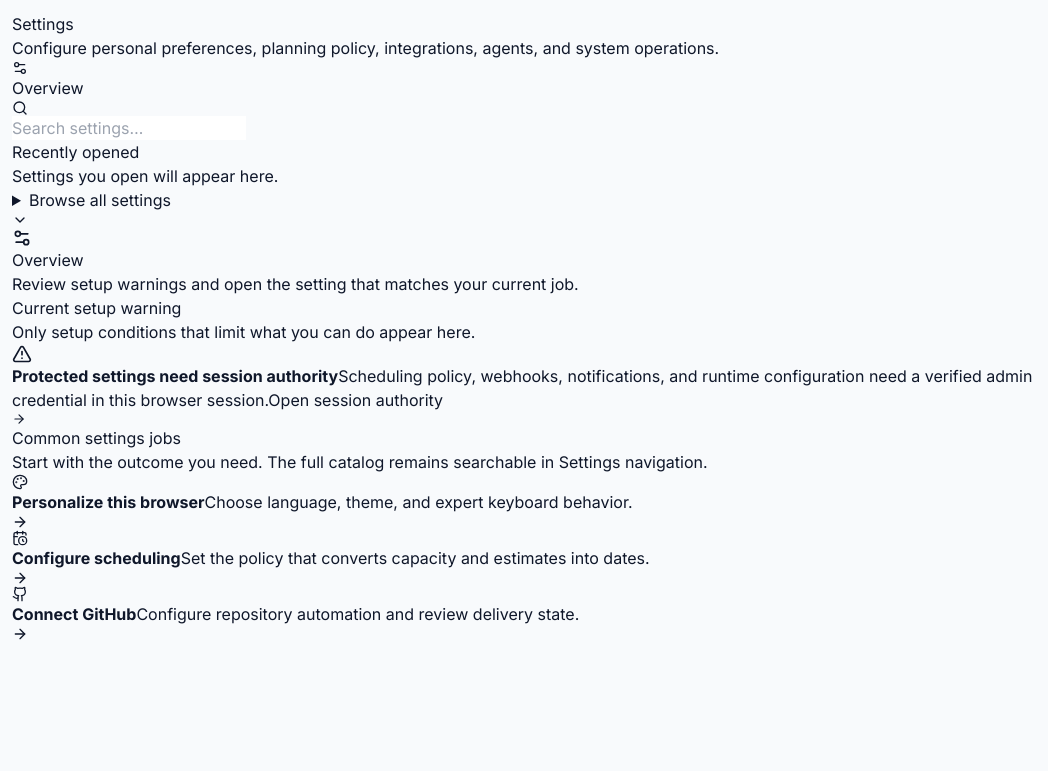
Test case: SettingsPage › starts with a warning-focused overview and keeps the full catalog on demand
Expected: the heading "Overview" is shown, [12,250,84,270]
Expected: the text "Protected settings need session authority" is shown, [12,366,338,386]
Click the heading "Browse all settings": [91, 209] box [12,190,171,228]
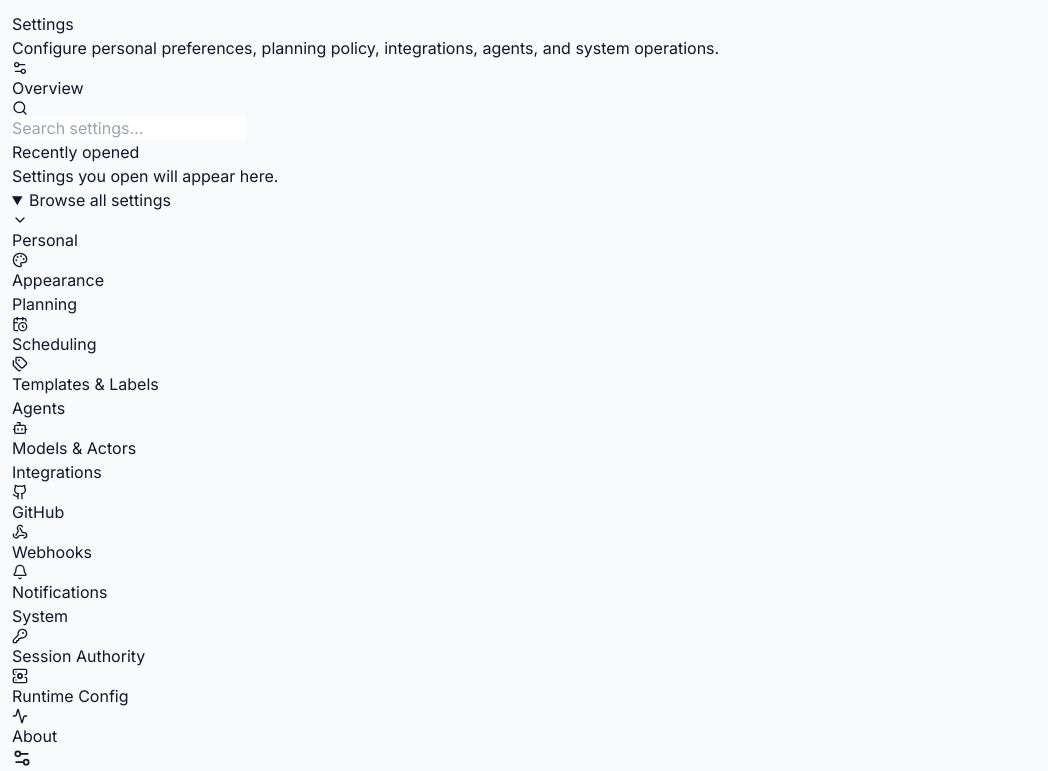
Now the heading "Personal" is shown, box [12,230,78,250]
Now the heading "Planning" is shown, box [12,294,77,314]
Now the heading "Integrations" is shown, box [12,462,102,482]
